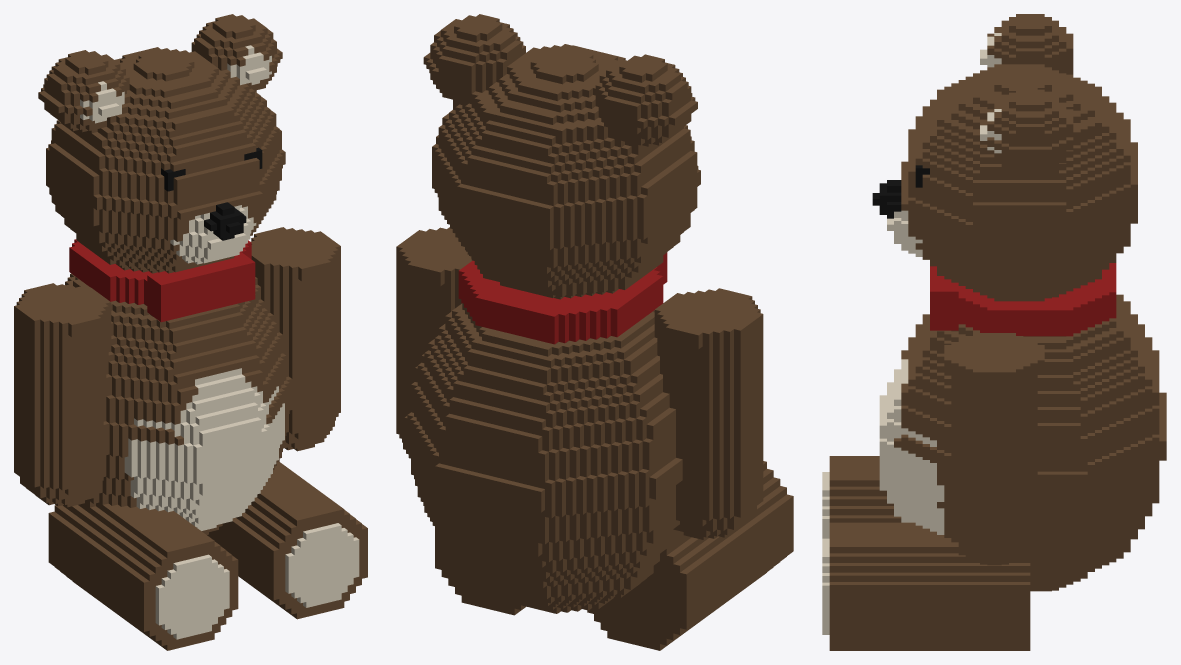
Rendered from teddy_bear.glb.
The picture shows the model from 3 angles, left to right: view 1: azimuth 30°, elevation 25°; view 2: azimuth 150°, elevation 25°; view 3: azimuth 270°, elevation 25°; orthographic projection. The views are drawn at different scales.
Visible parts, largest first — view 1: teddy_bear:compound; view 2: teddy_bear:compound; view 3: teddy_bear:compound.
Boxes of the visible parts, x1,y1,x2,y2 form: teddy_bear:compound: (14, 14, 367, 650); teddy_bear:compound: (396, 14, 793, 650); teddy_bear:compound: (822, 14, 1166, 650).
Size of the model in its own units: 0.208 by 0.336 by 0.192.
